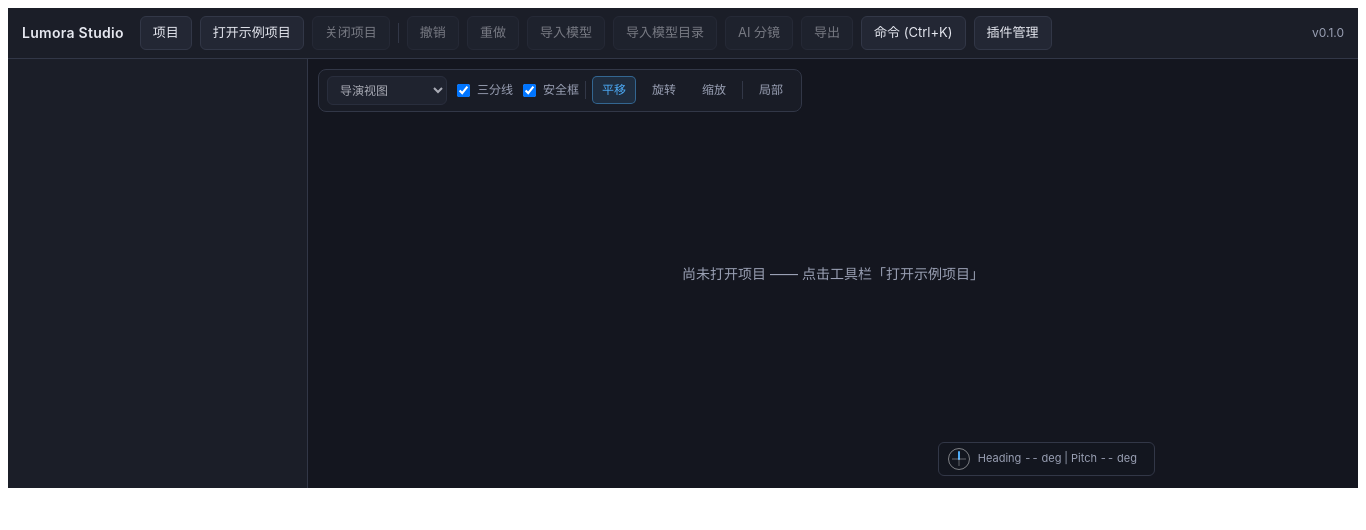
Scenario: Toolbar：全量文件列表契约（P3） › 导入入口把多选文件整体交给 importModelFile（.gltf + 外部依赖），不是首文件截断
The width and height of the screenshot is (1366, 530).
Click the button with test id "open-sample-project": {"x": 252, "y": 33} [200, 16, 304, 50]
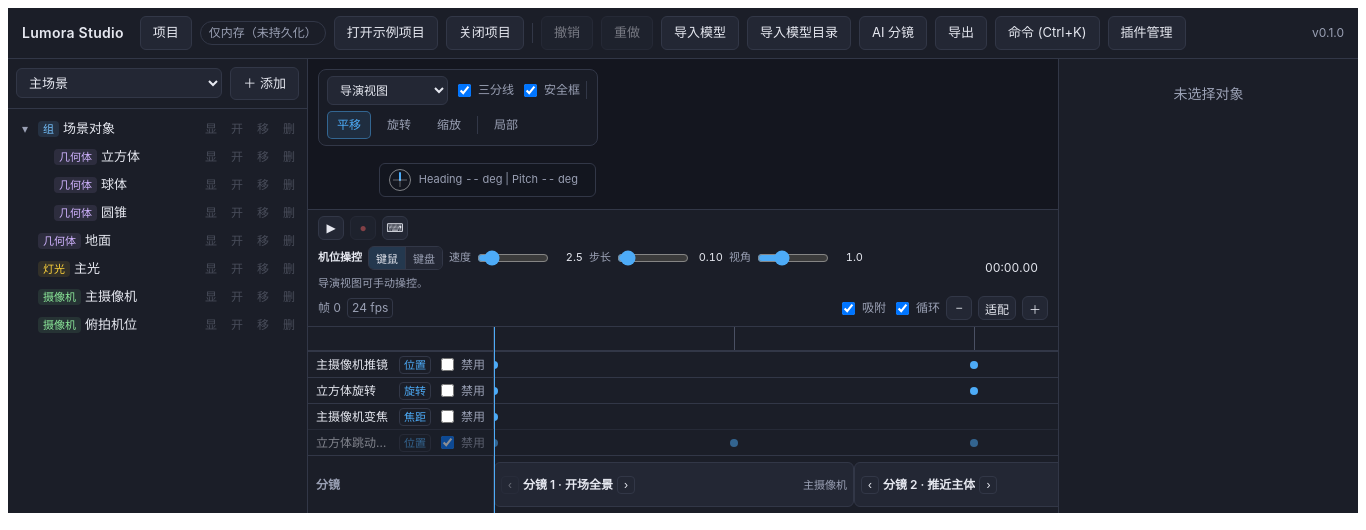
Now the list item with test id "tree-row-sample-group" is shown, box [8, 115, 307, 227]
